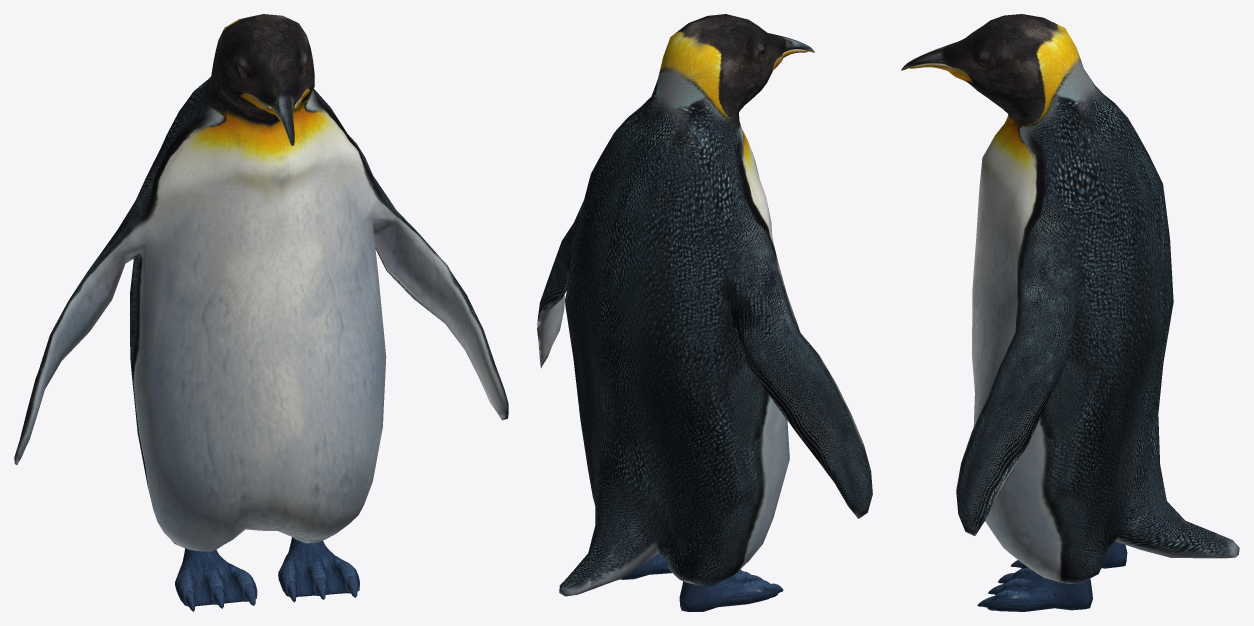
The picture shows the model from 3 angles, left to right: view 1: azimuth 30°, elevation 25°; view 2: azimuth 150°, elevation 25°; view 3: azimuth 270°, elevation 25°; orthographic projection. The views are drawn at different scales.
Visible parts, largest first — view 1: penguin.whit_eyes_penguin.002; view 2: penguin.whit_eyes_penguin.002; view 3: penguin.whit_eyes_penguin.002.
Boxes of the visible parts, box(x1,y1,x2,y2) form: penguin.whit_eyes_penguin.002: box(14, 14, 508, 611); penguin.whit_eyes_penguin.002: box(537, 14, 872, 611); penguin.whit_eyes_penguin.002: box(901, 14, 1239, 611).
Bounding box in the file's own units: 15.77 × 20.94 × 11.5.
